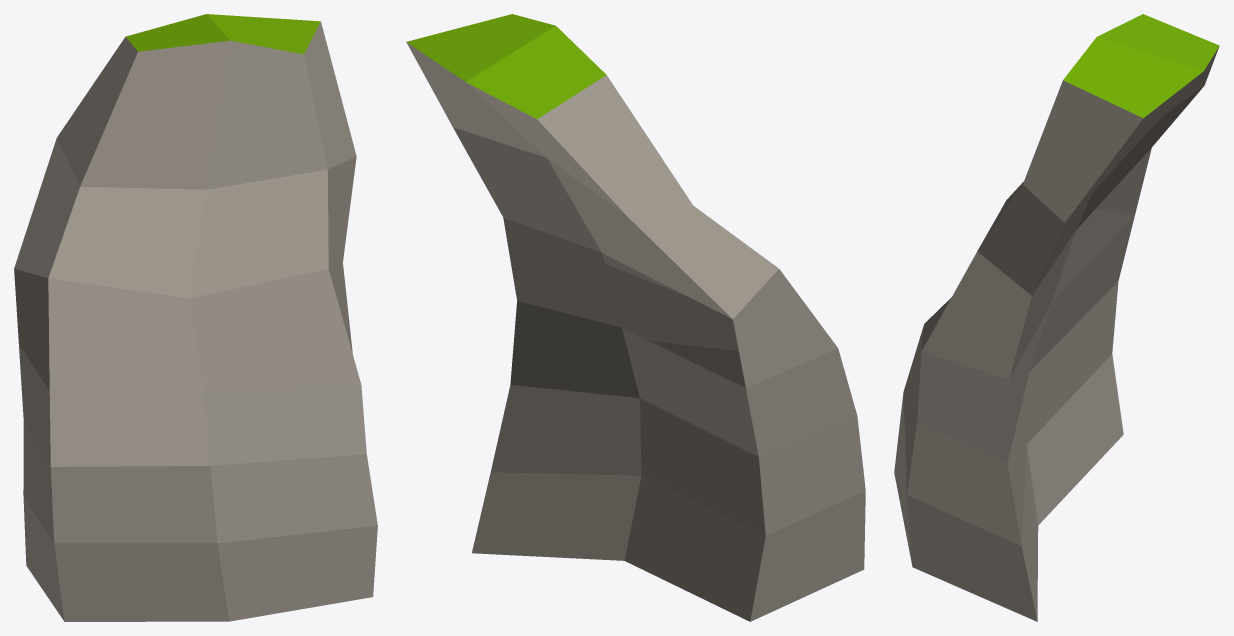
The model's file is Cliff 005.fbx.
3 views of the same model, side by side, from view 1: azimuth 30°, elevation 25°; view 2: azimuth 150°, elevation 25°; view 3: azimuth 270°, elevation 25° (orthographic). The views are drawn at different scales.
Parts seen in each view (by area): view 1: Cliff 005; view 2: Cliff 005; view 3: Cliff 005.
Boxes of the visible parts, left/top/right/bottom form: Cliff 005: left=14, top=14, right=377, bottom=621; Cliff 005: left=406, top=14, right=865, bottom=621; Cliff 005: left=894, top=14, right=1219, bottom=621.
Bounding box in the file's own units: 293 × 431 × 239.
